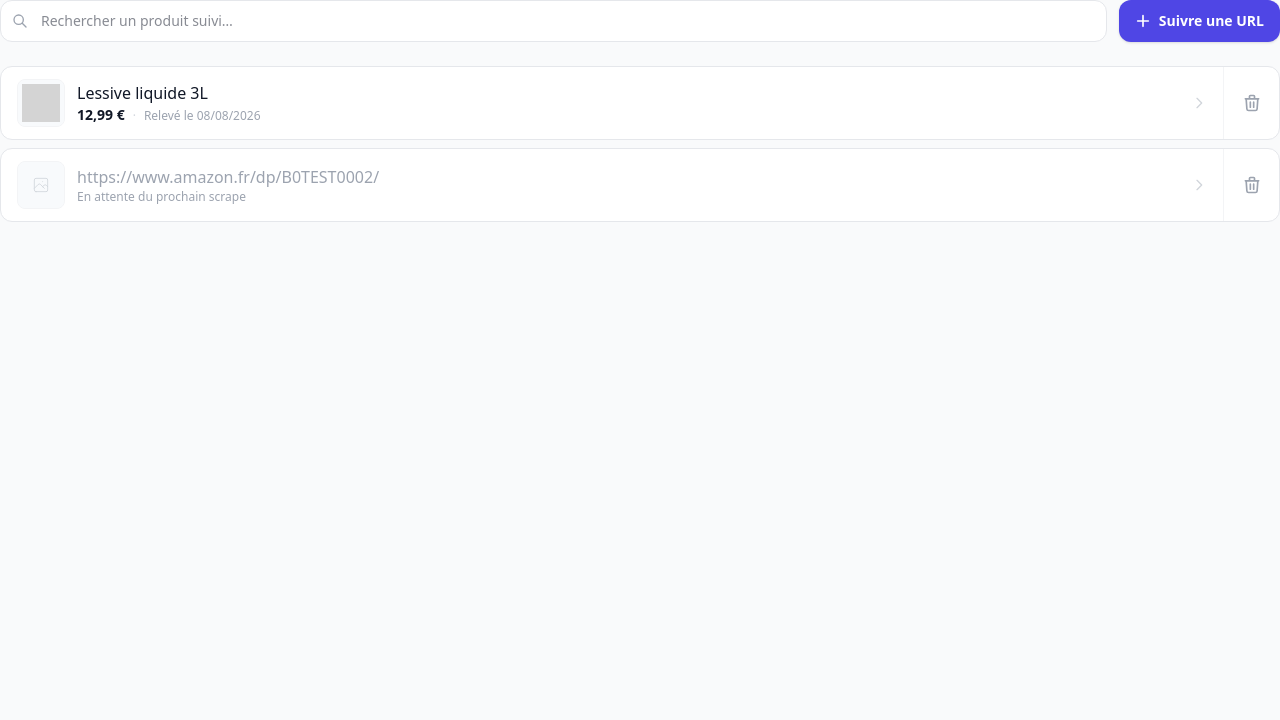
TrackedUrlDashboard › retrait du suivi › nomme par l’URL le produit encore sans titre
Click the button named "Retirer du suivi https://www.amazon.fr/dp/B0TEST0002/": [1251, 185] box [1223,149,1279,221]
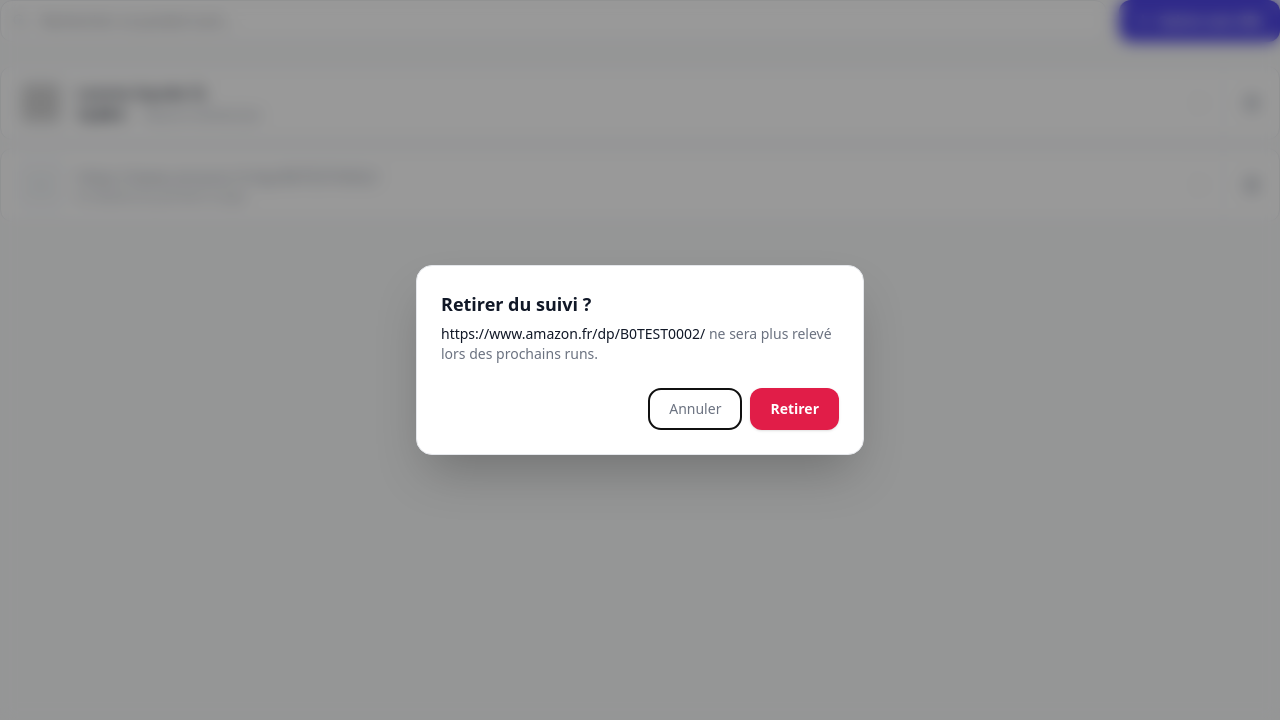
expect the text "https://www.amazon.fr/dp/B0TEST0002/" is shown: met, box [441,324,705,343]
